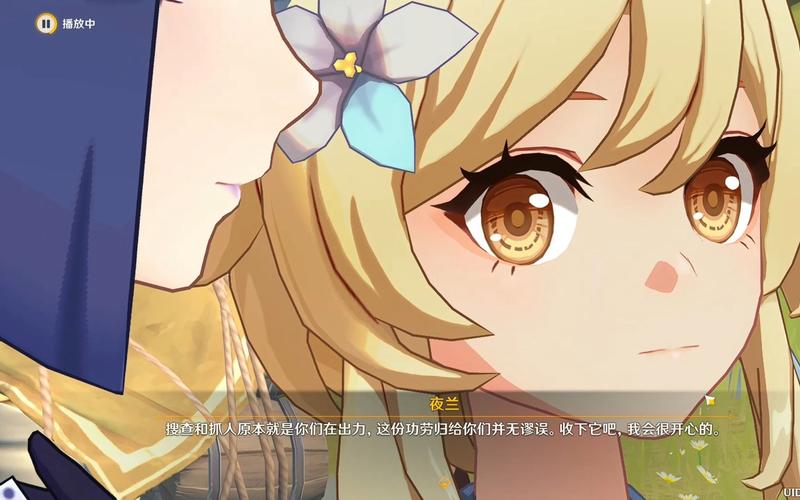夜兰: (1, 1, 323, 392)
